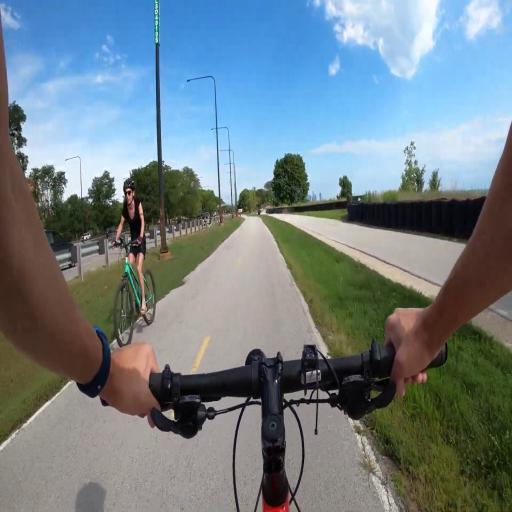Street_Light: (186, 72, 224, 224), (150, 0, 170, 263), (209, 122, 234, 219), (219, 145, 239, 206), (64, 152, 83, 202)
